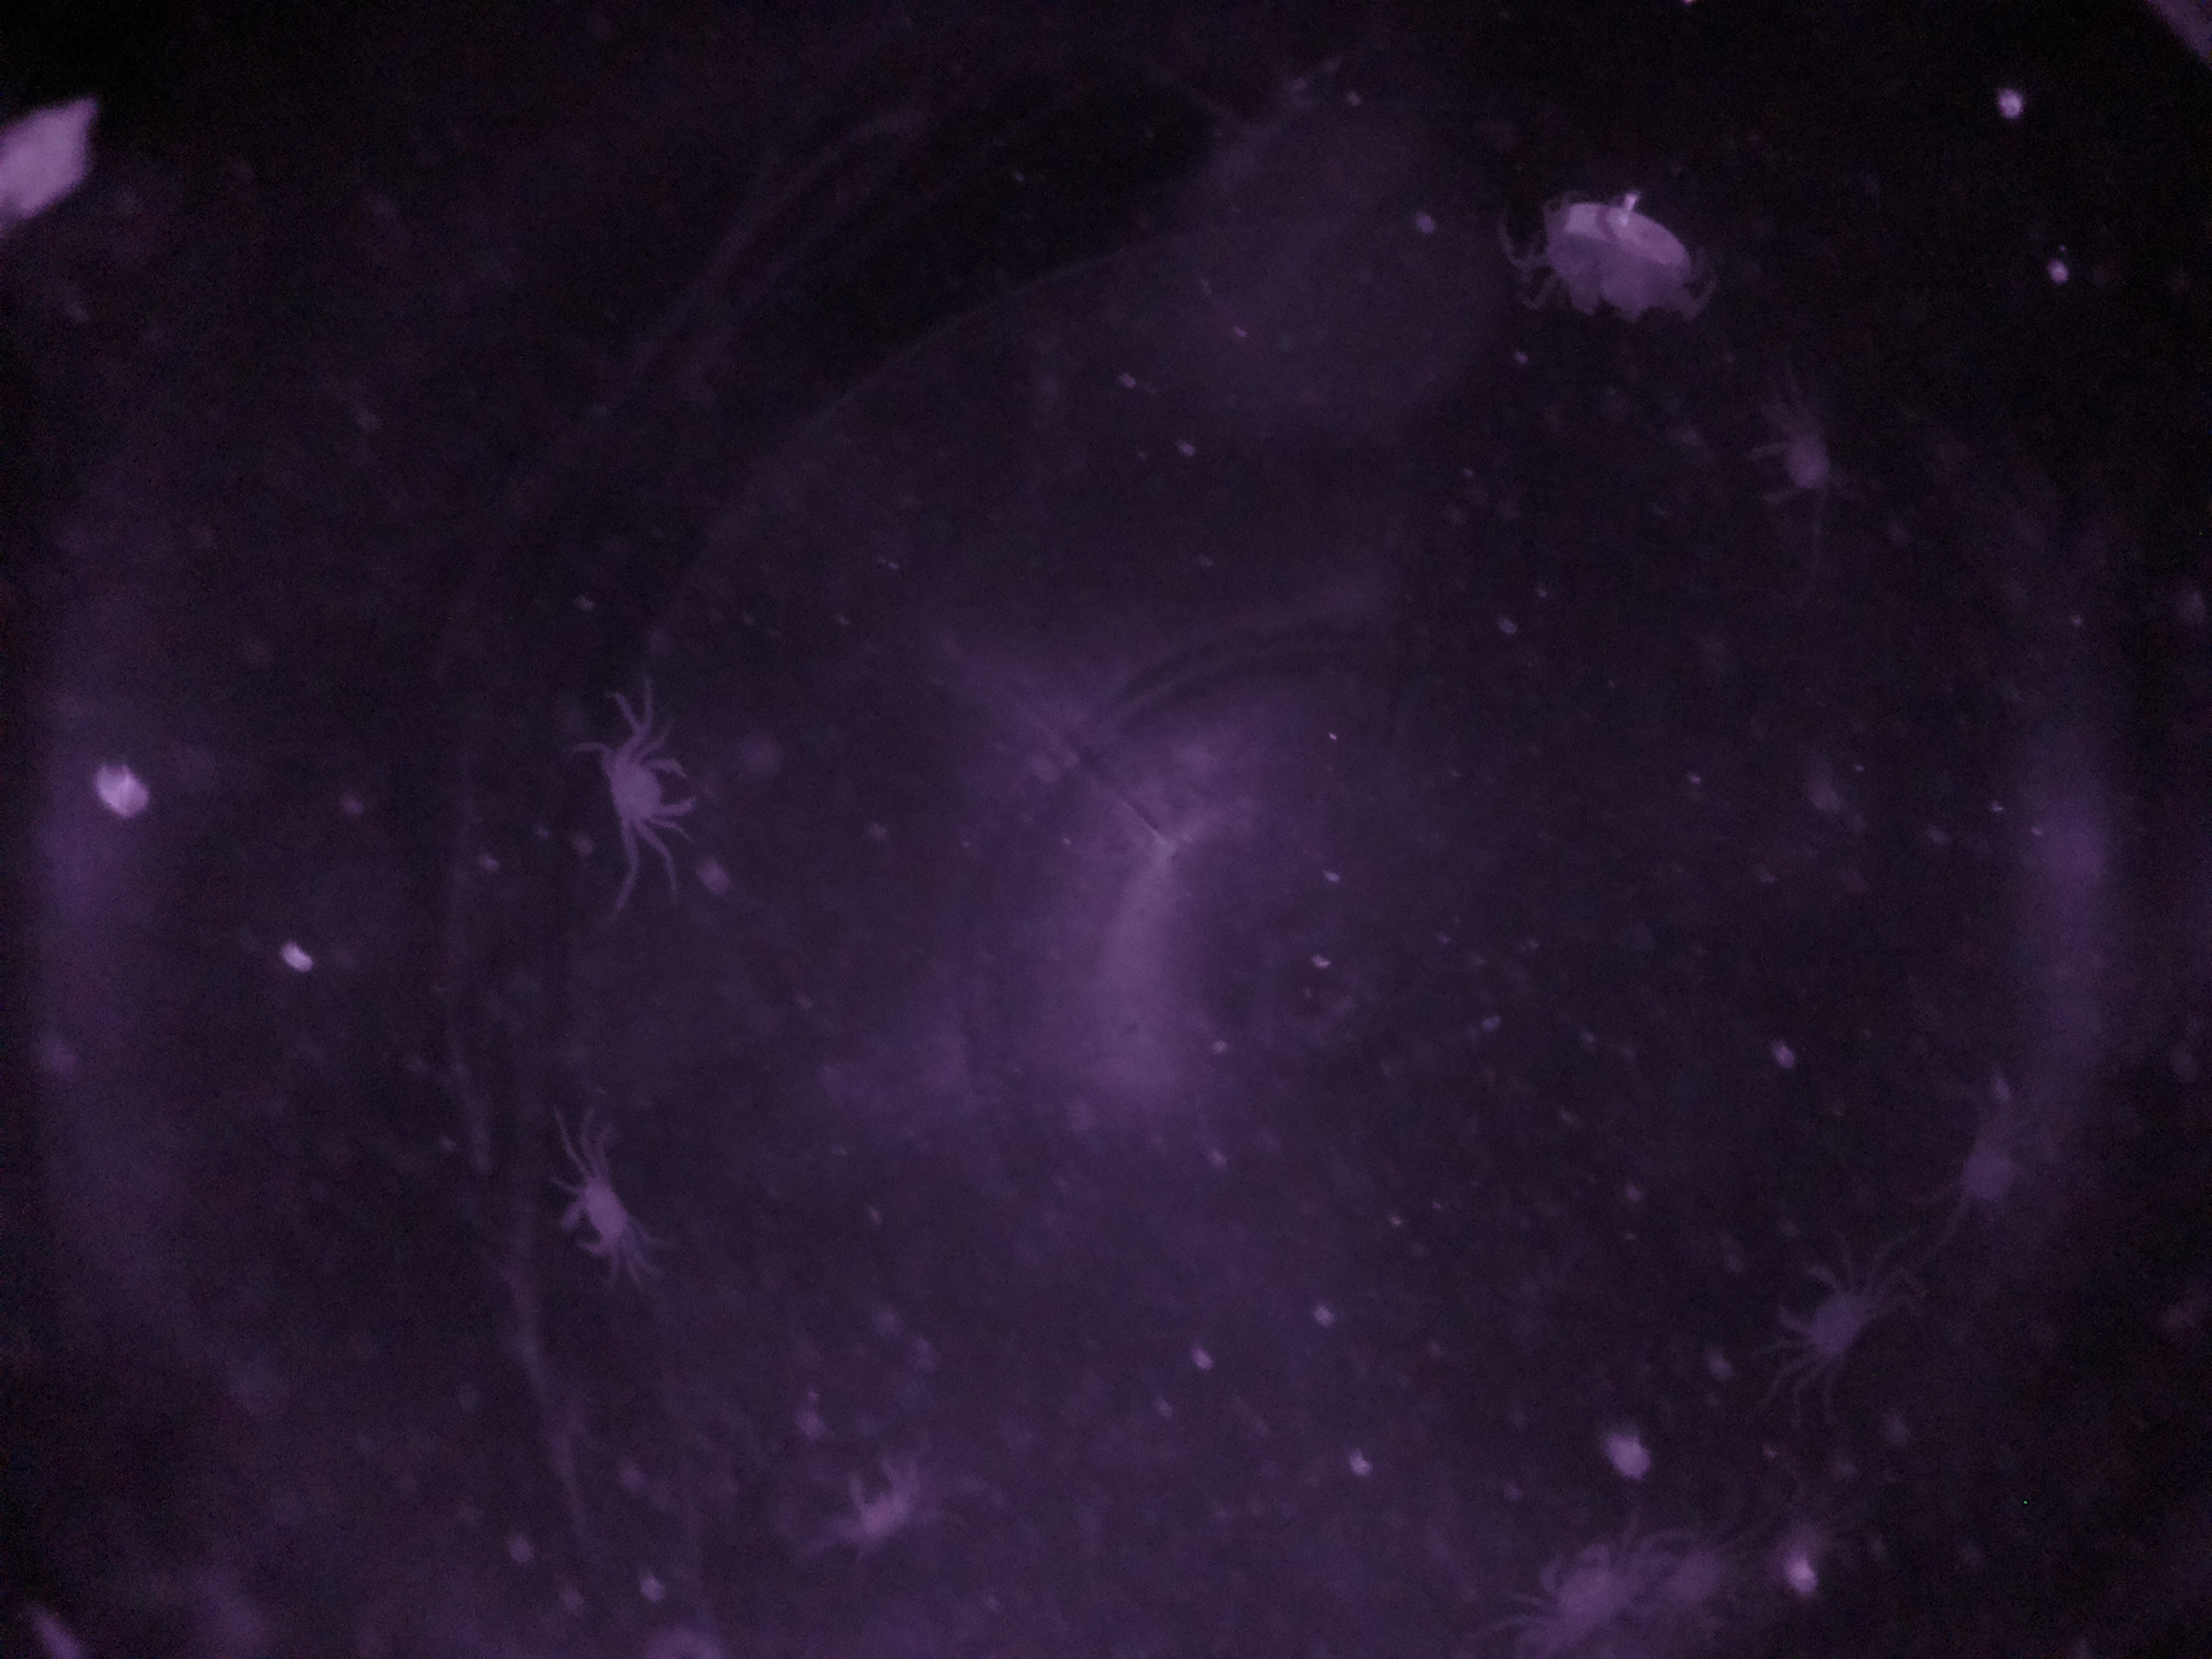Crab: (1759, 1244, 1890, 1380), (1517, 1506, 1644, 1645), (582, 727, 723, 843), (545, 1161, 657, 1277)
